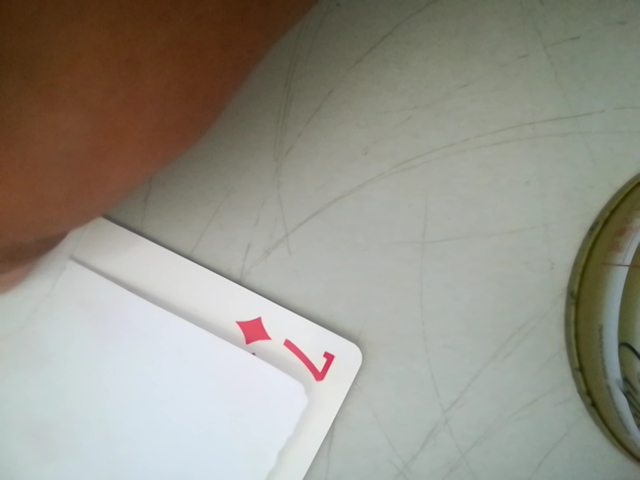fk 7: (223, 310, 355, 385)
